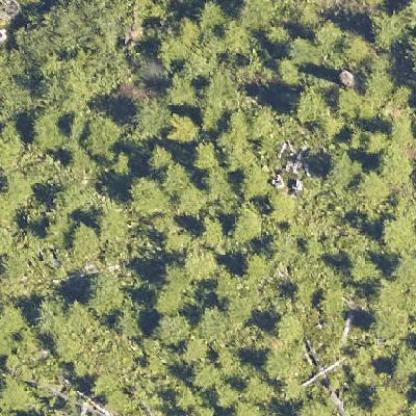tree-top: (292, 81, 338, 125), (224, 289, 261, 329), (160, 110, 201, 145), (35, 107, 74, 142), (355, 166, 391, 202), (346, 249, 384, 280), (190, 137, 224, 171), (163, 75, 199, 104), (198, 211, 226, 242), (146, 140, 174, 168)
